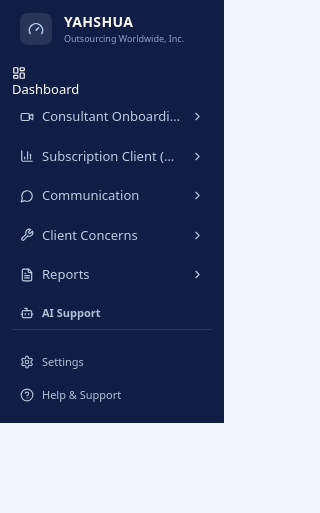
Test: Sidebar › reveals only client chats when Communication is expanded
Step 1. Click the button "Communication" → point(112, 196), box [12,178,212,214]
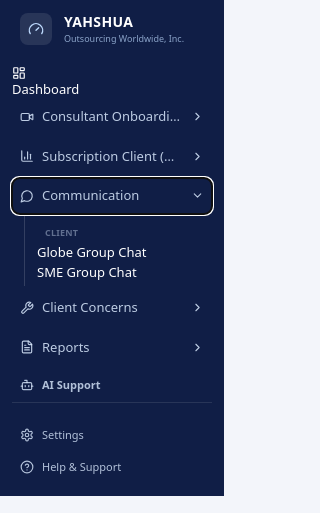
Check: the text "CLIENT" is shown, box [45,226,78,238]
